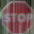Stop: (2, 9, 33, 29)
